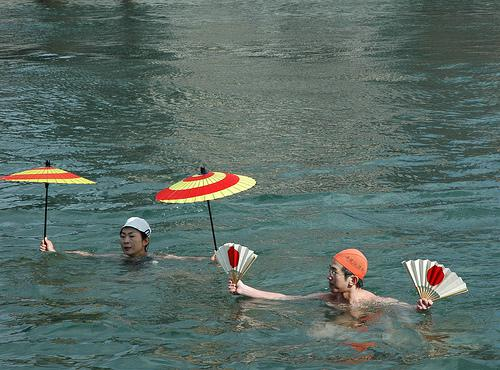swimmer: (228, 244, 418, 312), (39, 212, 159, 264)
